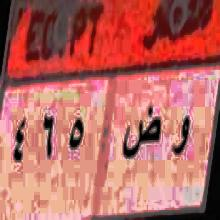4: (9, 107, 29, 176)
5: (63, 106, 93, 175)
6: (38, 104, 58, 168)
daad: (123, 101, 164, 178)
waw: (169, 95, 199, 174)
